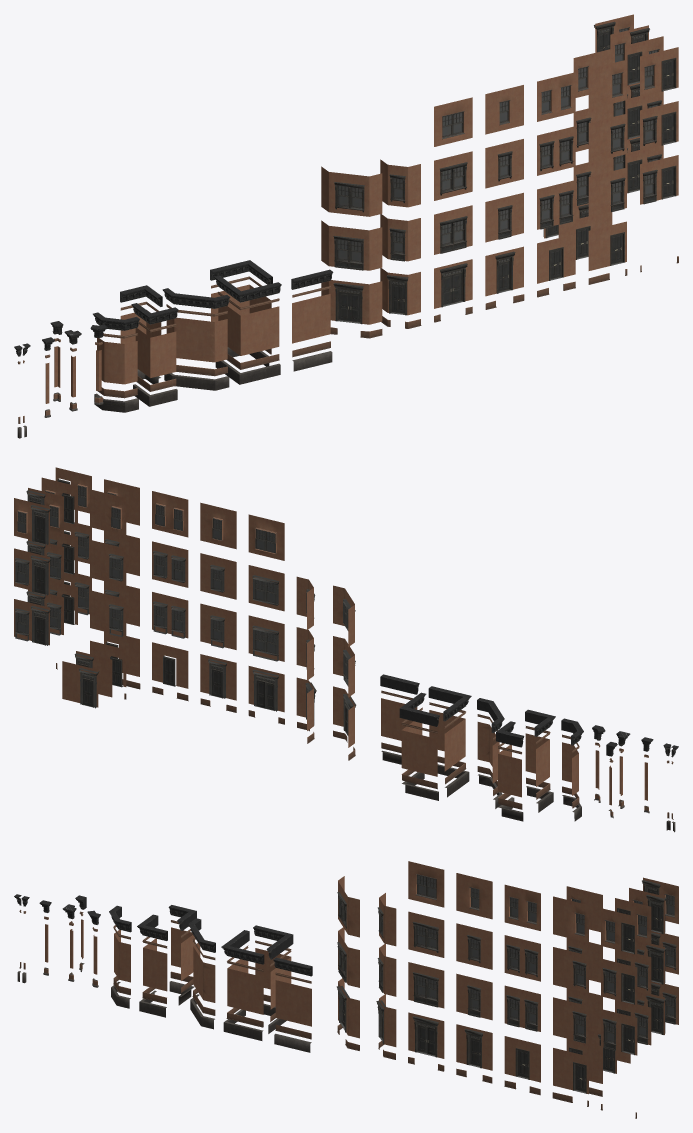
The model's file is modular_urban_apartments_facade.glb.
The picture shows the model from 3 angles, top to bottom: view 1: azimuth 30°, elevation 25°; view 2: azimuth 150°, elevation 25°; view 3: azimuth 330°, elevation 25°; orthographic projection. The views are drawn at different scales.
Parts seen in each view (by area): view 1: wall_standard_corner_large_01, wall_standard_angled_large_01, wall_window_angled_large_02, wall_window_angled_large_01, wall_standard_corner_small_01, wall_standard_standard_01, wall_standard_angled_small_01, wall_window_offset_small_05, wall_window_centered_small_03, wall_window_centered_small_02, wall_door_angled_large_01, wall_window_angled_small_02 (+38 smaller); view 2: wall_standard_corner_large_02, wall_standard_corner_large_01, wall_window_offset_small_06, wall_window_centered_small_03, wall_window_centered_small_02, wall_window_offset_small_04, wall_window_centered_small_01, wall_window_offset_small_02, wall_window_centered_double_03, wall_door_centered_small_02, door_window_small_04, wall_window_centered_large_03 (+38 smaller); view 3: wall_standard_corner_large_01, wall_standard_standard_01, wall_window_centered_small_03, wall_window_offset_small_05, wall_window_centered_small_02, wall_window_offset_small_03, wall_window_centered_small_01, wall_window_centered_double_03, wall_door_centered_small_02, wall_standard_corner_small_01, wall_window_offset_small_01, wall_window_centered_large_03 (+58 smaller).
Boxes of the visible parts, box(x1,y1,x2,y2) form: wall_standard_corner_large_01: box(218, 306, 279, 355); wall_standard_angled_large_01: box(166, 317, 227, 362); wall_window_angled_large_02: box(321, 166, 382, 216); wall_window_angled_large_01: box(321, 220, 382, 270); wall_standard_corner_small_01: box(135, 328, 176, 377); wall_standard_standard_01: box(292, 294, 330, 343); wall_standard_angled_small_01: box(97, 338, 137, 384); wall_window_offset_small_05: box(588, 59, 626, 109); wall_window_centered_small_03: box(485, 85, 523, 134); wall_window_centered_small_02: box(485, 139, 523, 188); wall_door_angled_large_01: box(321, 280, 382, 324); wall_window_angled_small_02: box(380, 159, 420, 207); wall_standard_corner_large_02: box(401, 721, 437, 776); wall_standard_corner_large_01: box(429, 710, 465, 771); wall_window_offset_small_06: box(90, 489, 126, 535); wall_window_centered_small_03: box(200, 502, 236, 549); wall_window_centered_small_02: box(200, 553, 236, 599); wall_window_offset_small_04: box(90, 540, 126, 586); wall_window_centered_small_01: box(200, 603, 236, 649); wall_window_offset_small_02: box(90, 590, 126, 636); wall_window_centered_double_03: box(152, 491, 188, 537); wall_door_centered_small_02: box(152, 642, 188, 688); door_window_small_04: box(14, 605, 51, 645); wall_window_centered_large_03: box(248, 514, 284, 560); wall_standard_corner_large_01: box(227, 959, 263, 1014); wall_standard_standard_01: box(275, 980, 311, 1026); wall_window_centered_small_03: box(456, 873, 492, 919); wall_window_offset_small_05: box(553, 896, 588, 942); wall_window_centered_small_02: box(456, 923, 492, 969); wall_window_offset_small_03: box(553, 947, 588, 993); wall_window_centered_small_01: box(456, 973, 492, 1020); wall_window_centered_double_03: box(504, 884, 540, 930); wall_door_centered_small_02: box(504, 1036, 540, 1082); wall_standard_corner_small_01: box(143, 938, 167, 991); wall_window_offset_small_01: box(553, 997, 588, 1043); wall_window_centered_large_03: box(408, 861, 444, 907).
Size of the model in its own units: 51.53 by 17 by 6.67.
5 materials, 5 textured.
